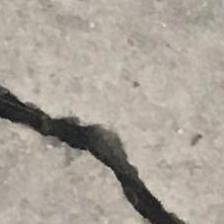Crack: (0, 82, 210, 224)
